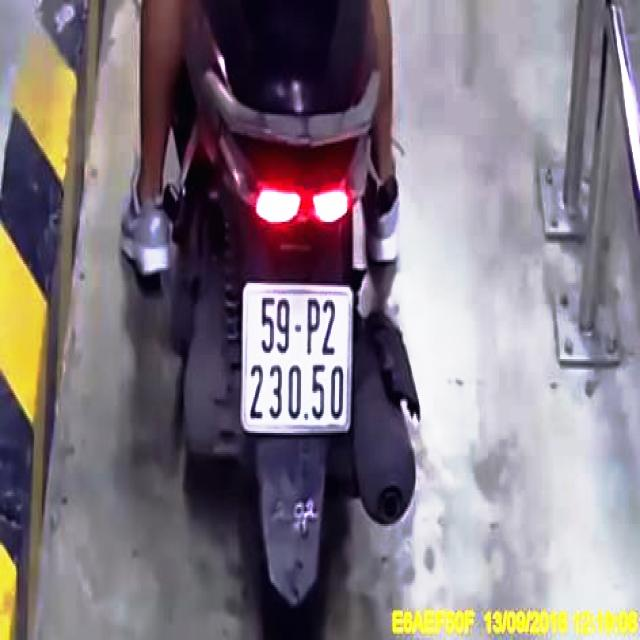license_plate: (246, 286, 352, 431)
